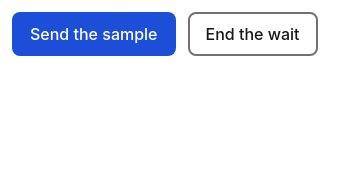
Test: PendingSample › shows its submit button waiting once pressed, until the wait is ended
The width and height of the screenshot is (363, 172).
Click the button "Send the sample".
click(94, 34)  # box [12,12,176,56]
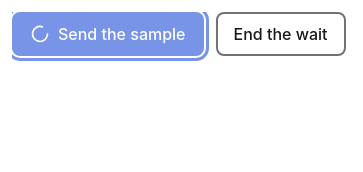
Now the button "Send the sample" is disabled, box [12,12,204,56]
Click the button "End the wait".
click(280, 34)  # box [216,12,346,56]
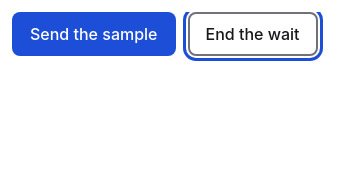
Now the button "Send the sample" does not have attribute aria-disabled, box [12,12,176,56]
